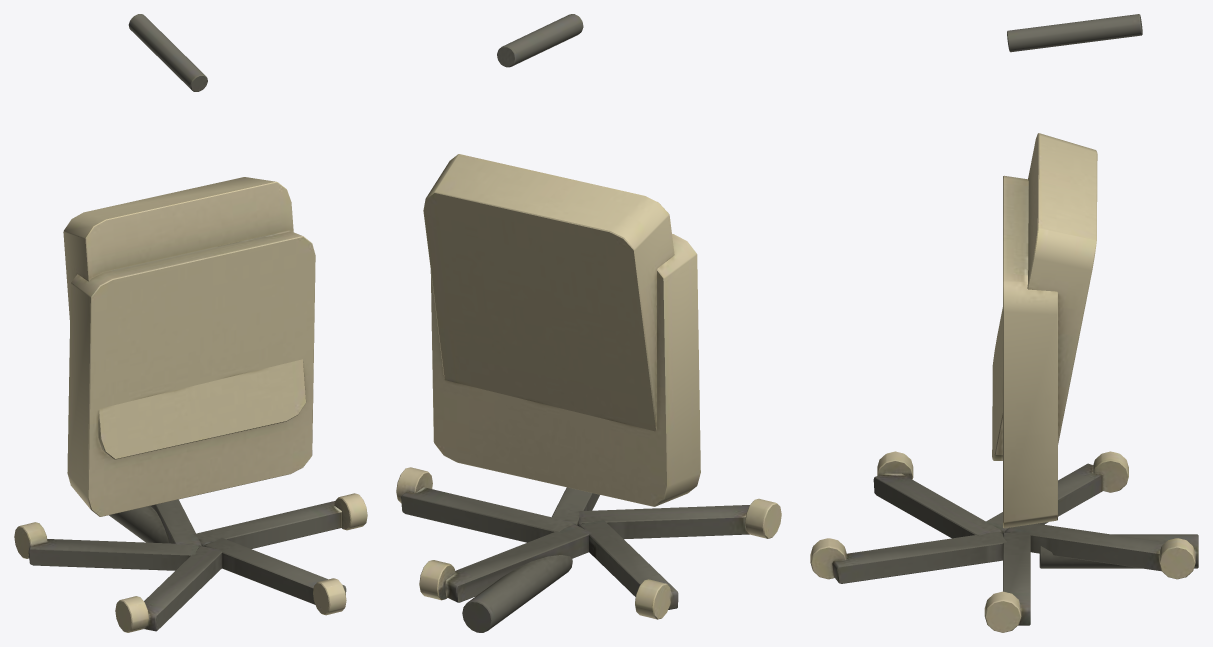
The model's file is LV_office_chair.glb.
3 views of the same model, side by side, from view 1: azimuth 30°, elevation 25°; view 2: azimuth 150°, elevation 25°; view 3: azimuth 270°, elevation 25° (orthographic). The views are drawn at different scales.
Parts seen in each view (by area): view 1: LV_office_chair; view 2: LV_office_chair; view 3: LV_office_chair.
Boxes of the visible parts, x1=… form: LV_office_chair: x1=14, y1=14, x2=367, y2=632; LV_office_chair: x1=396, y1=14, x2=781, y2=632; LV_office_chair: x1=810, y1=14, x2=1198, y2=632.
Bounding box in the file's own units: 0.5858 × 0.9973 × 0.6353.
Materials: 1 (1 with a texture image).
